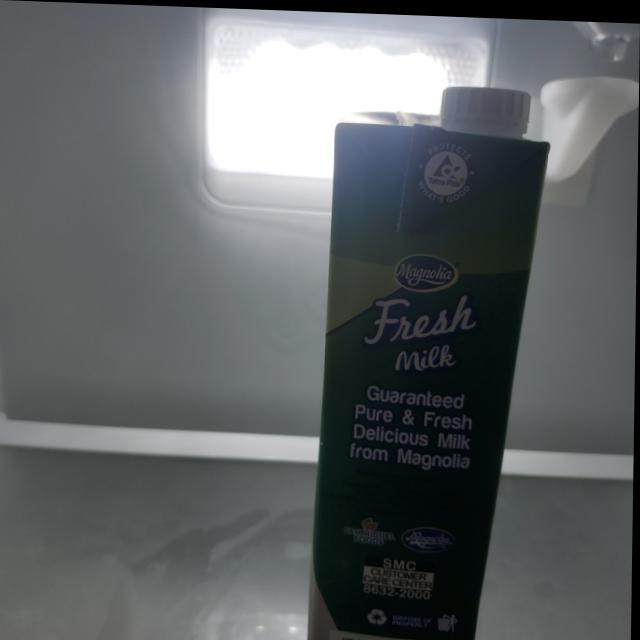milk: (310, 75, 551, 640)
